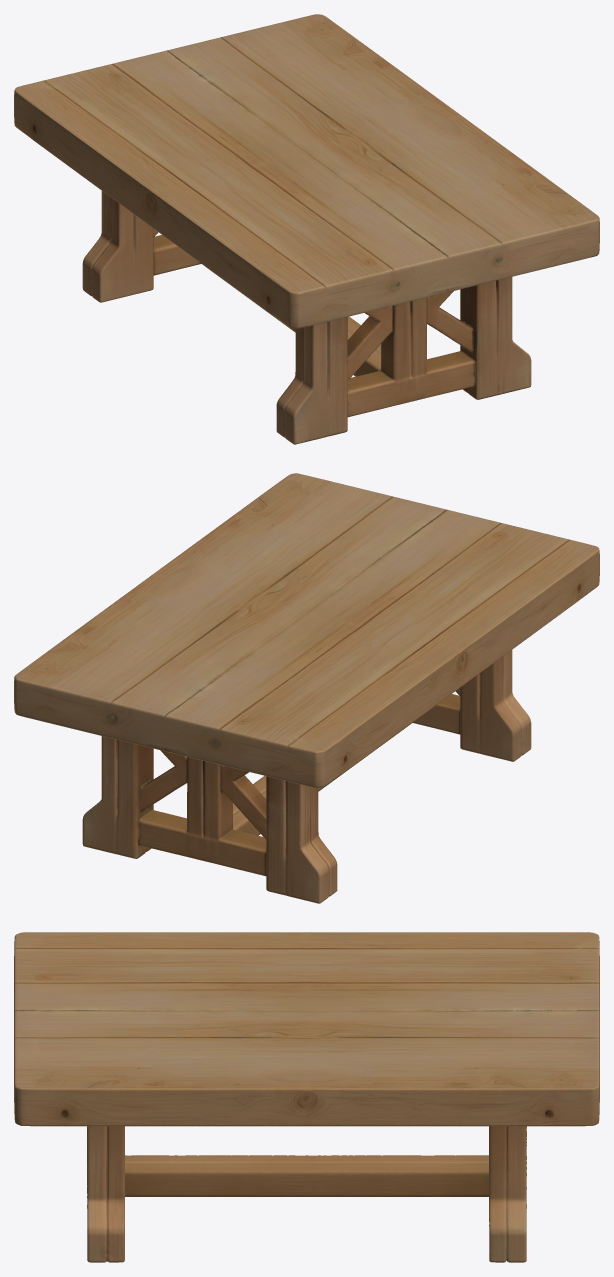
The model's file is detailed_realistic_model_largeoaktable_02.glb.
The picture shows the model from 3 angles, top to bottom: view 1: azimuth 30°, elevation 25°; view 2: azimuth 150°, elevation 25°; view 3: azimuth 270°, elevation 25°; orthographic projection. The views are drawn at different scales.
Parts seen in each view (by area): view 1: tripo_node_971b42a5-437a-4120-a7a9-b50edd9e6ecf; view 2: tripo_node_971b42a5-437a-4120-a7a9-b50edd9e6ecf; view 3: tripo_node_971b42a5-437a-4120-a7a9-b50edd9e6ecf.
Boxes of the visible parts, left/top/right/bottom form: tripo_node_971b42a5-437a-4120-a7a9-b50edd9e6ecf: left=14, top=14, right=599, bottom=444; tripo_node_971b42a5-437a-4120-a7a9-b50edd9e6ecf: left=14, top=473, right=599, bottom=903; tripo_node_971b42a5-437a-4120-a7a9-b50edd9e6ecf: left=14, top=932, right=599, bottom=1262.
Size of the model in its own units: 0.6353 by 0.3626 by 1.
Materials: 1 (1 with a texture image).
